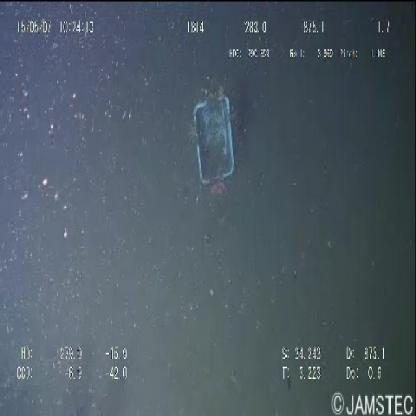Rác: (187, 82, 242, 202)
